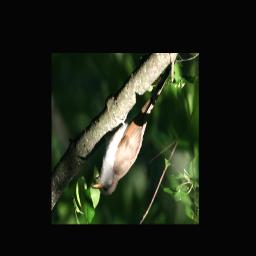Cuckoo: (91, 60, 175, 196)
